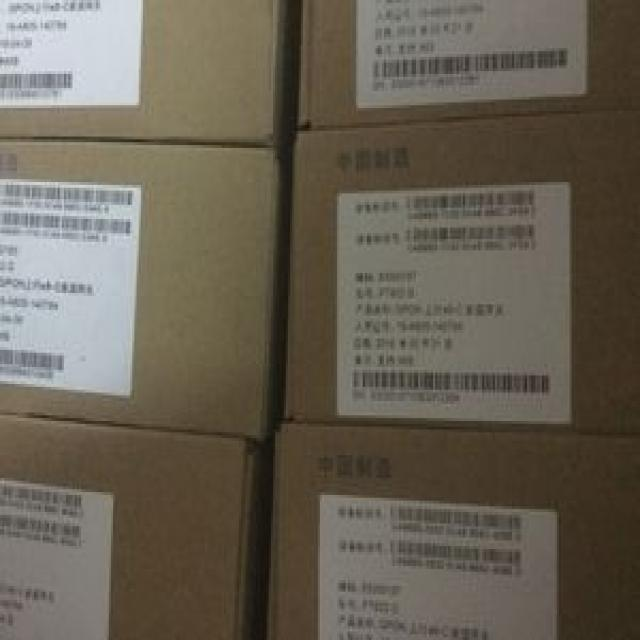box: (284, 108, 638, 432), (0, 139, 281, 442), (267, 424, 637, 637), (0, 411, 258, 637), (1, 0, 287, 153), (297, 1, 638, 127)
